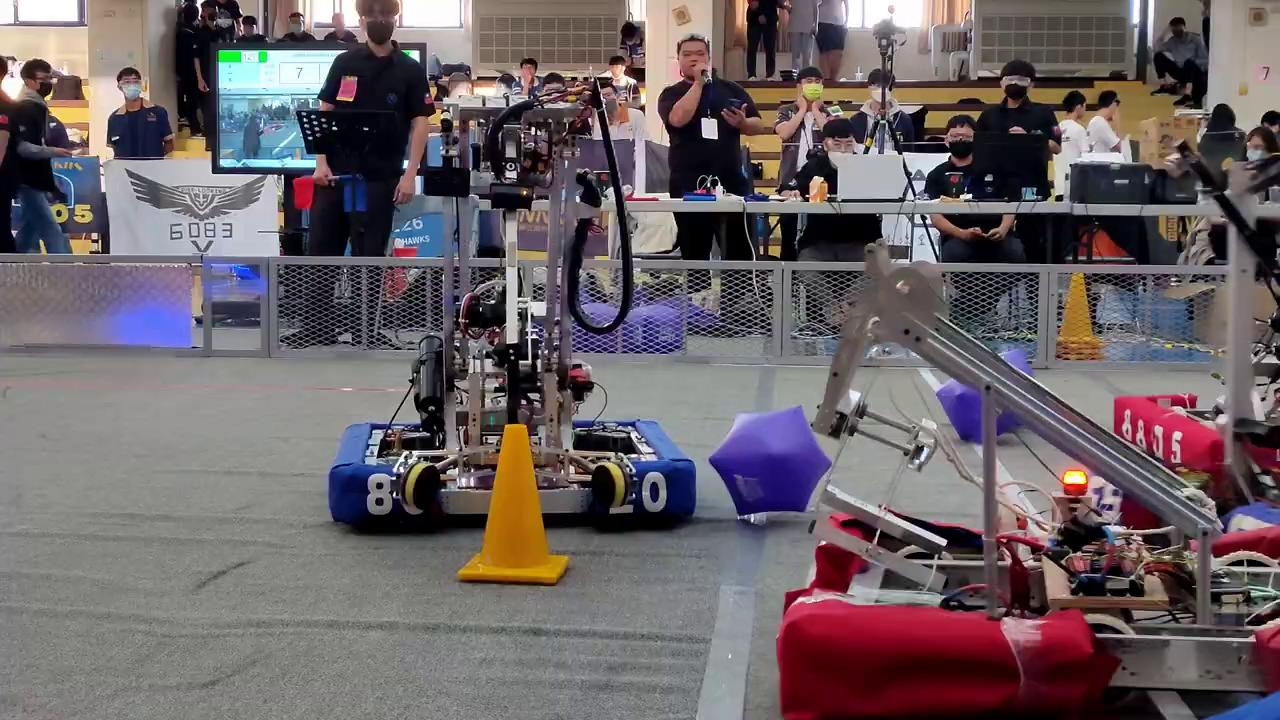robot: (779, 275, 1280, 720), (328, 92, 697, 531), (1112, 168, 1280, 479)
